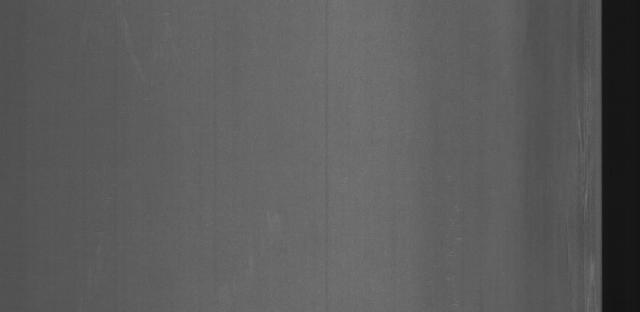silk_spot: (570, 67, 597, 294)
